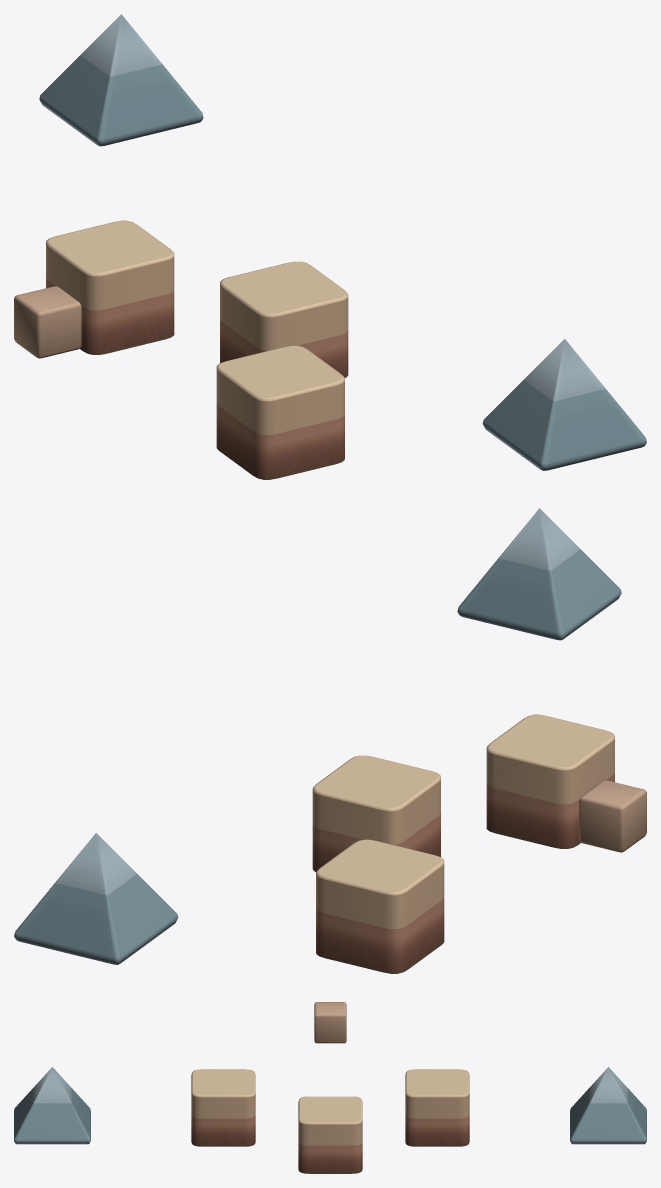
The model's file is Props.fbx.
3 views of the same model, one above another, from view 1: azimuth 30°, elevation 25°; view 2: azimuth 150°, elevation 25°; view 3: azimuth 270°, elevation 25° (orthographic). The views are drawn at different scales.
Parts seen in each view (by area): view 1: 三角锥 (×2), Box01, Box01 (1), Box01 (2), Box1-5; view 2: 三角锥 (×2), Box01 (1), Box01, Box01 (2), Box1-5; view 3: 三角锥 (×2), Box01, Box01 (1), Box01 (2), Box1-5.
Boxes of the visible parts, left/top/right/bottom form: 三角锥 (×2): left=39, top=14, right=646, bottom=470; Box01: left=216, top=345, right=344, bottom=479; Box01 (1): left=46, top=220, right=174, bottom=354; Box01 (2): left=220, top=261, right=348, bottom=377; Box1-5: left=14, top=286, right=81, bottom=358; 三角锥 (×2): left=14, top=508, right=621, bottom=964; Box01 (1): left=316, top=839, right=444, bottom=973; Box01: left=486, top=714, right=614, bottom=848; Box01 (2): left=312, top=755, right=440, bottom=871; Box1-5: left=579, top=780, right=646, bottom=852; 三角锥 (×2): left=14, top=1067, right=646, bottom=1144; Box01: left=191, top=1069, right=255, bottom=1146; Box01 (1): left=405, top=1069, right=469, bottom=1146; Box01 (2): left=298, top=1096, right=362, bottom=1173; Box1-5: left=314, top=1002, right=346, bottom=1043.
Bounding box in the file's own units: 12.55 × 5.76 × 29.6.
